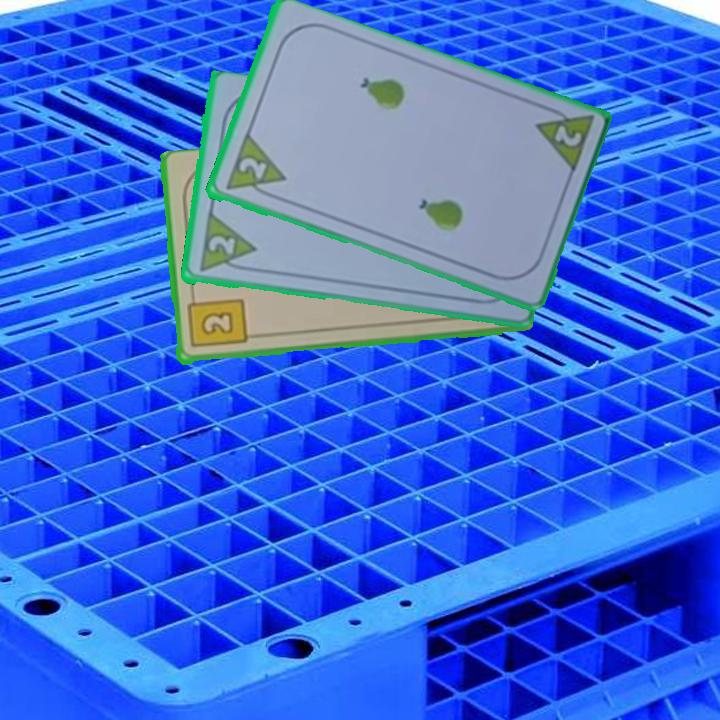2b: (184, 290, 249, 351)
2p: (530, 101, 596, 177), (221, 132, 288, 203), (204, 232, 238, 258)
